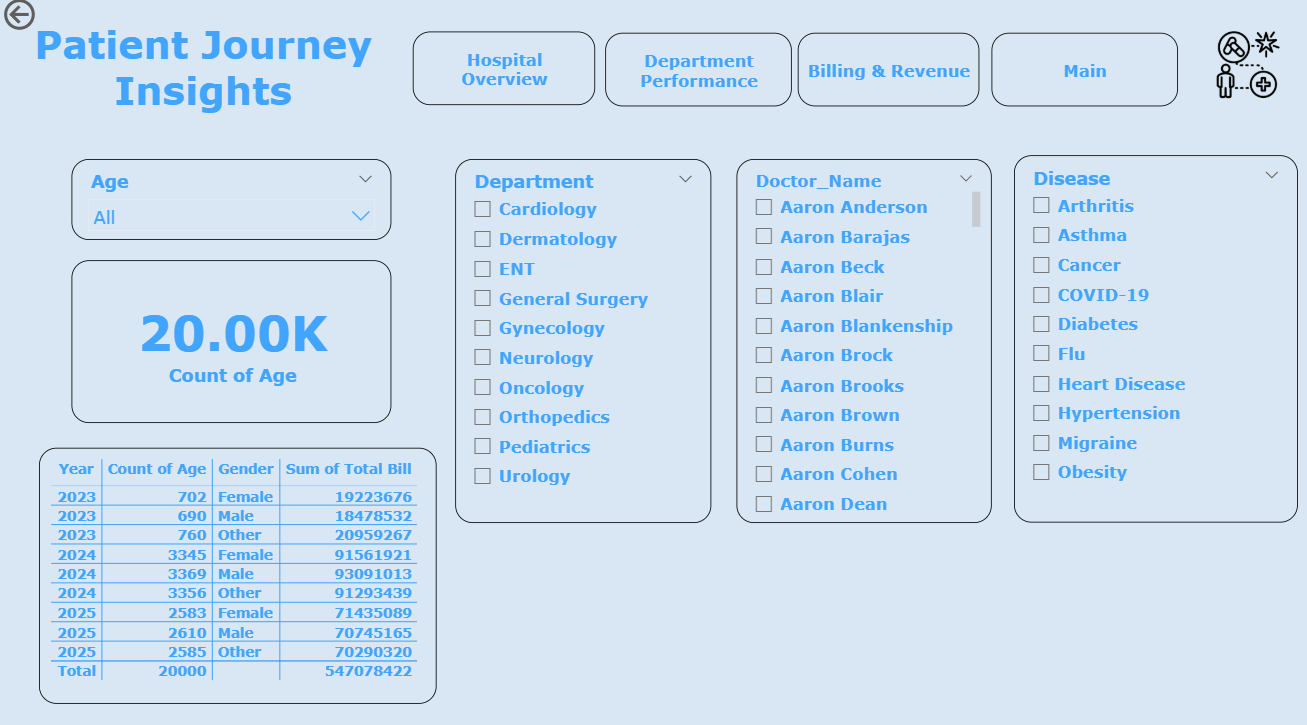

This screenshot's page, from the dashboard's own definition file:
{"tool":"powerbi","page":{"name":"Patient Insights","canvas":[1280,720],"ordinal":3},"visuals":[{"type":"slicer","fields":{"Values":["Sheet1.Age"]},"box":[70.9,161.4,312.9,79.5],"z":0},{"type":"actionButton","box":[0,0,100,40],"z":1000},{"type":"tableEx","fields":{"Values":["Sheet1.Admission_Date.Variation.Date Hierarchy.Year","CountNonNull(Sheet1.Age)","Sheet1.Gender","Sum(Sheet1.Total Bill)"]},"box":[39.1,443.7,388.7,250.6],"z":2000},{"type":"card","fields":{"Values":["CountNonNull(Sheet1.Age)"]},"box":[70.9,260.4,312.9,158.9],"z":3000},{"type":"slicer","fields":{"Values":["Sheet1.Disease"]},"box":[992.6,157.7,277.5,359.4],"z":4000},{"type":"slicer","fields":{"Values":["Sheet1.Doctor_Name"]},"box":[721.2,161.4,249.4,355.7],"z":5000},{"type":"slicer","fields":{"Values":["Sheet1.Department"]},"box":[446.2,161.4,250.6,355.7],"z":6000},{"type":"textbox","box":[15.9,20.8,367.9,105.1],"z":7000},{"type":"image","box":[1172.3,28.1,97.8,81.9],"z":8000},{"type":"actionButton","title":"department Performance","box":[592.9,37.9,182.1,72.1],"z":9000},{"type":"actionButton","title":"department Performance","box":[404.6,36.7,178.5,72.1],"z":10000},{"type":"actionButton","title":"department Performance","box":[781.1,37.9,177.2,72.1],"z":11000},{"type":"actionButton","title":"department Performance","box":[970.6,37.9,182.1,72.1],"z":12000}]}

Visuals, with their boxes in screenshot pixels (x1, y1, x2, y2), scaled from the page's 1280x720 canvas onto the 1307x725 screenshot:
slicer - Sheet1.Age: bbox(72, 163, 392, 243)
actionButton: bbox(0, 0, 102, 40)
tableEx - Sheet1.Admission_Date.Variation.Date Hierarchy.Year x CountNonNull(Sheet1.Age): bbox(40, 447, 437, 699)
card - CountNonNull(Sheet1.Age): bbox(72, 262, 392, 422)
slicer - Sheet1.Disease: bbox(1014, 159, 1297, 521)
slicer - Sheet1.Doctor_Name: bbox(736, 163, 991, 521)
slicer - Sheet1.Department: bbox(456, 163, 711, 521)
textbox: bbox(16, 21, 392, 127)
image: bbox(1197, 28, 1297, 111)
"department Performance" actionButton: bbox(605, 38, 791, 111)
"department Performance" actionButton: bbox(413, 37, 595, 110)
"department Performance" actionButton: bbox(798, 38, 979, 111)
"department Performance" actionButton: bbox(991, 38, 1177, 111)
